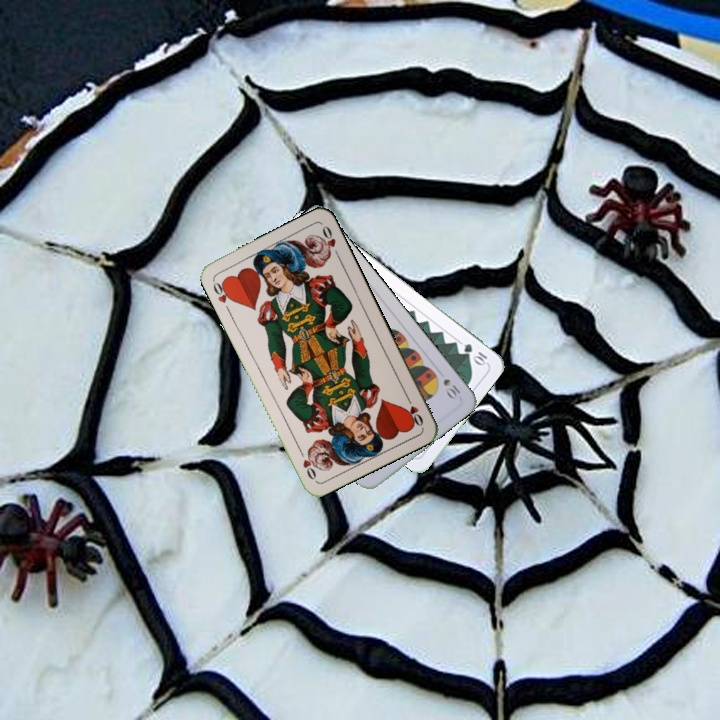G10: (460, 339, 490, 368)
HO: (401, 391, 426, 429), (208, 276, 236, 306)
S10: (439, 374, 463, 402)
